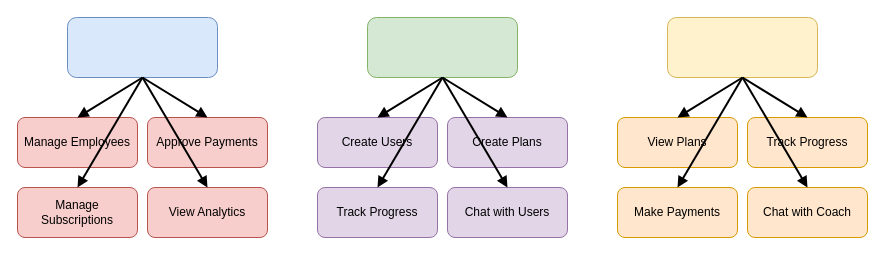
Some shapes in this 885 by 255 pixel diagram are drawn without their labels. The centre of each missing label's shape, as x and y in pixels:
Admin: the point at 142,47
Employee: the point at 442,47
User: the point at 742,47
